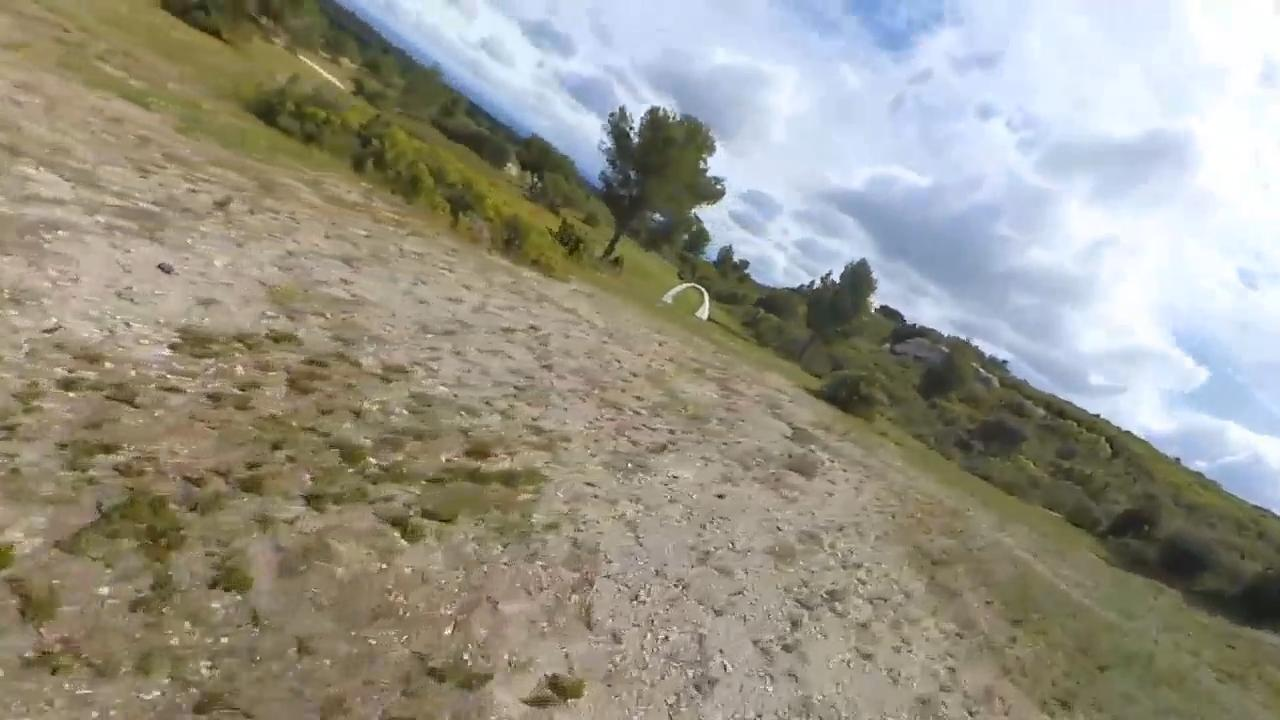gate: (662, 281, 713, 322)
